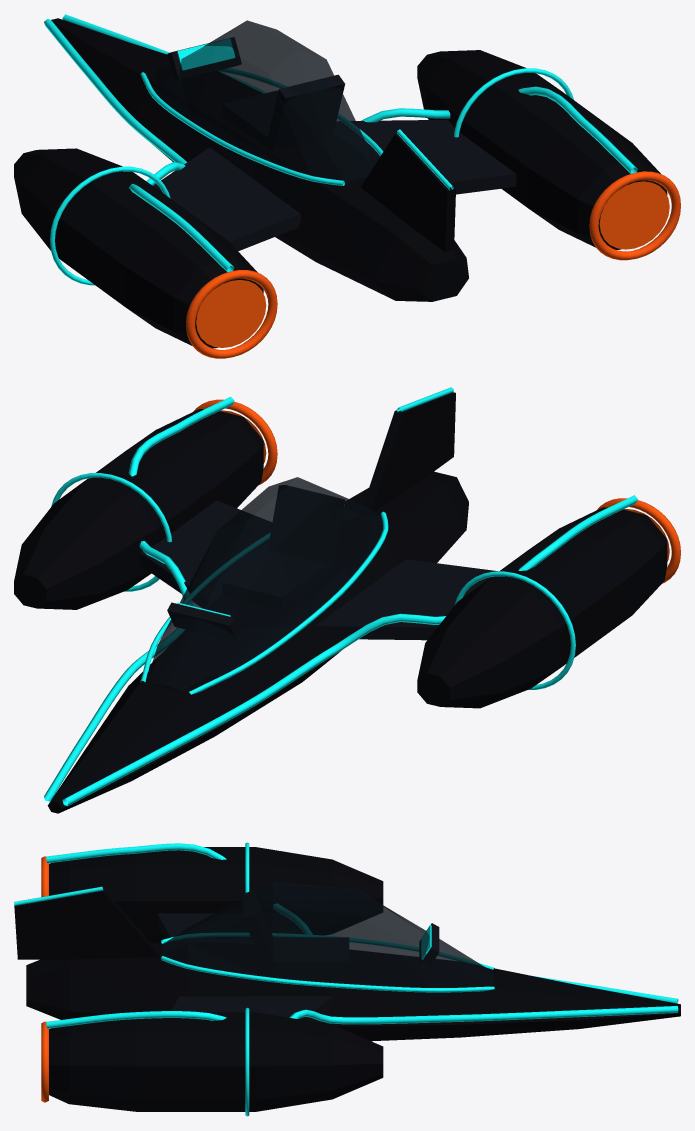
The model's file is racing-drone.obj.
3 views of the same model, one above another, from view 1: azimuth 30°, elevation 25°; view 2: azimuth 150°, elevation 25°; view 3: azimuth 270°, elevation 25° (orthographic). The views are drawn at different scales.
Parts seen in each view (by area): view 1: body, canopy, frame, neonTeal, thrusterCores, thrusterRings; view 2: body, canopy, frame, neonTeal, thrusterRings; view 3: body, canopy, neonTeal, frame, thrusterRings.
Boxes of the visible parts, left/top/right/bottom form: body: left=14, top=18, right=667, bottom=348; canopy: left=151, top=20, right=378, bottom=185; frame: left=153, top=37, right=516, bottom=251; neonTeal: left=44, top=14, right=637, bottom=285; thrusterCores: left=196, top=181, right=669, bottom=347; thrusterRings: left=186, top=171, right=680, bottom=358; body: left=14, top=392, right=667, bottom=813; canopy: left=148, top=477, right=382, bottom=691; frame: left=140, top=485, right=497, bottom=641; neonTeal: left=44, top=387, right=637, bottom=806; thrusterRings: left=193, top=399, right=680, bottom=583; body: left=14, top=847, right=680, bottom=1111; canopy: left=162, top=882, right=493, bottom=987; neonTeal: left=14, top=842, right=678, bottom=1116; frame: left=157, top=890, right=439, bottom=1021; thrusterRings: left=41, top=856, right=48, bottom=1102.
Size of the model in its own units: 3 by 0.95 by 3.92.
